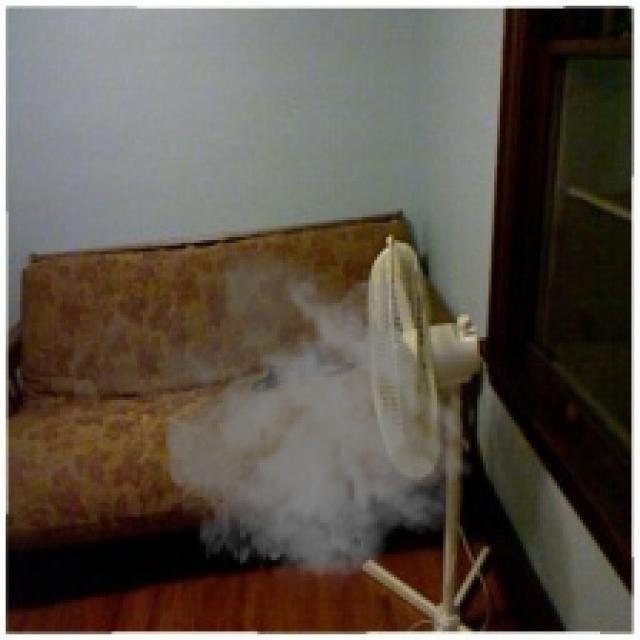smoke: (54, 237, 474, 603)
